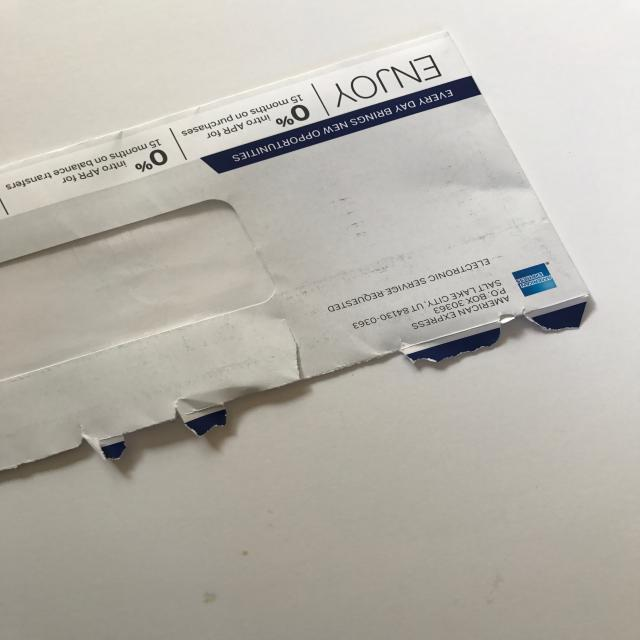paper: (2, 28, 590, 472)
